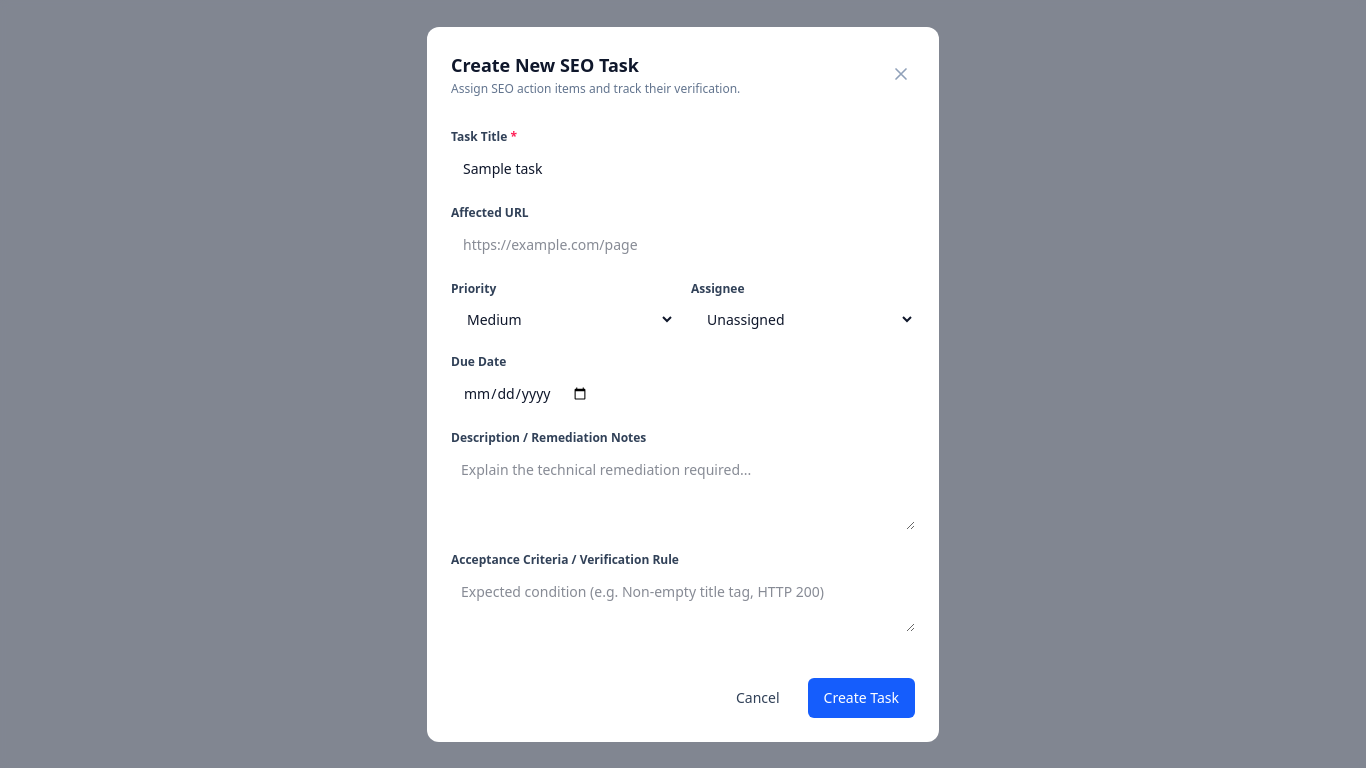
Test: CreateTaskModal Component › displays error banner when api.tasks.create fails
Click the button "Create Task". click: click(861, 698)
box: [808, 678, 915, 718]
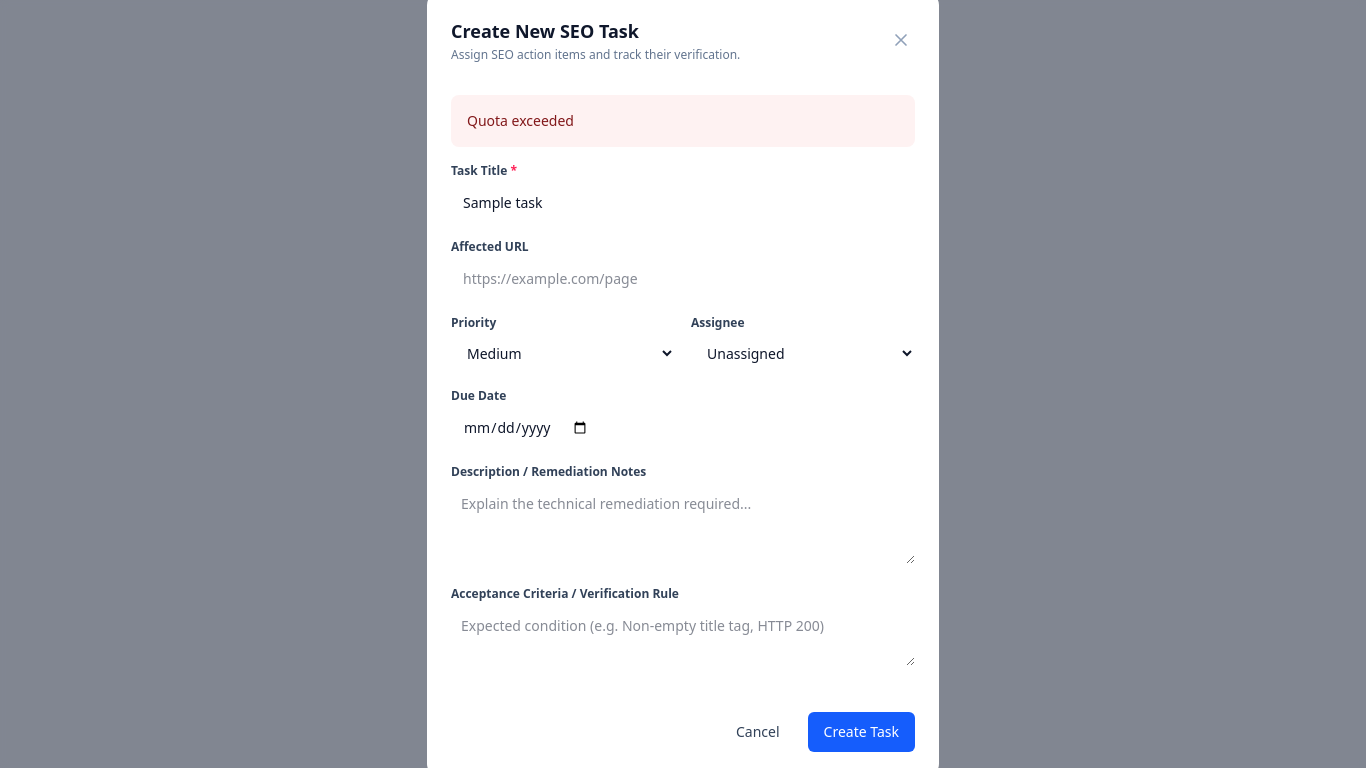
Expected: the text "Quota exceeded" is shown, [451, 94, 915, 146]
